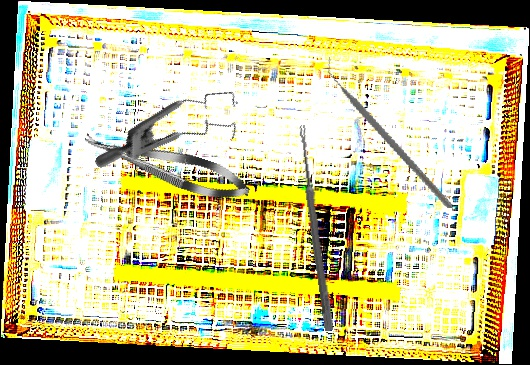Chopper: (298, 56, 483, 209)
Micro Scissor: (79, 122, 255, 209)
Speculum: (93, 50, 256, 221)
Surgical Spoon: (296, 124, 335, 332)
